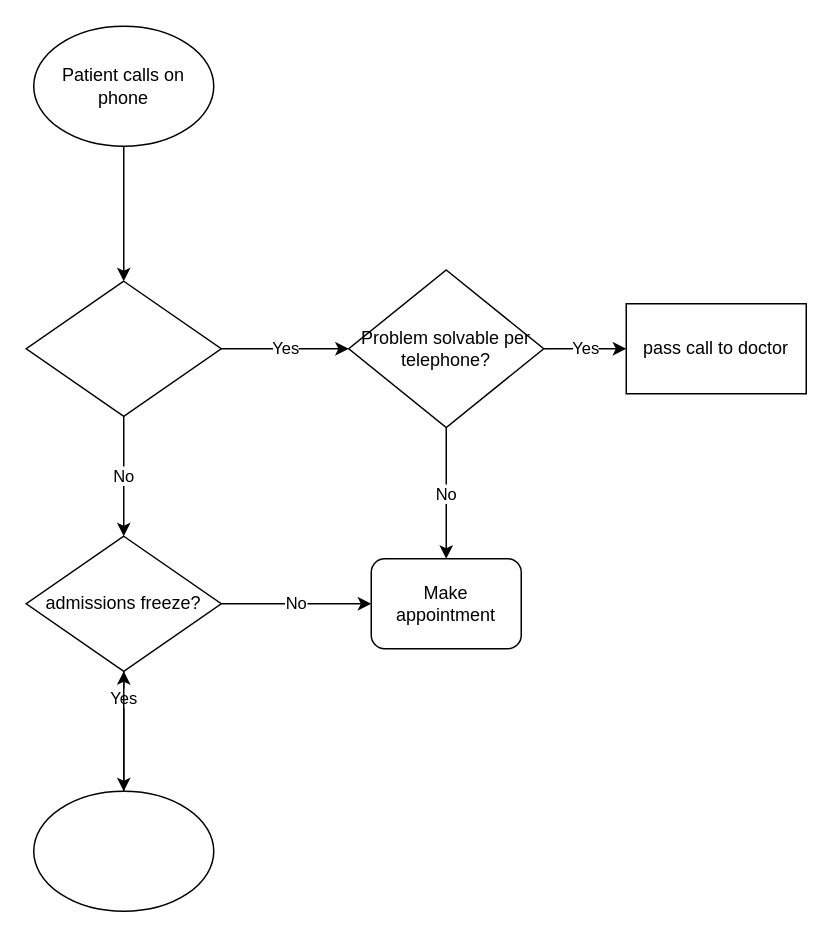
Image size: 833x938. Some labels were removed from this diagram. Here are the shapes that lost their labels. From the top down, the box of each, then its label:
(25, 280, 221, 416): Patient known?
(32, 790, 214, 911): Deny patient, recomment other doctor's practice
